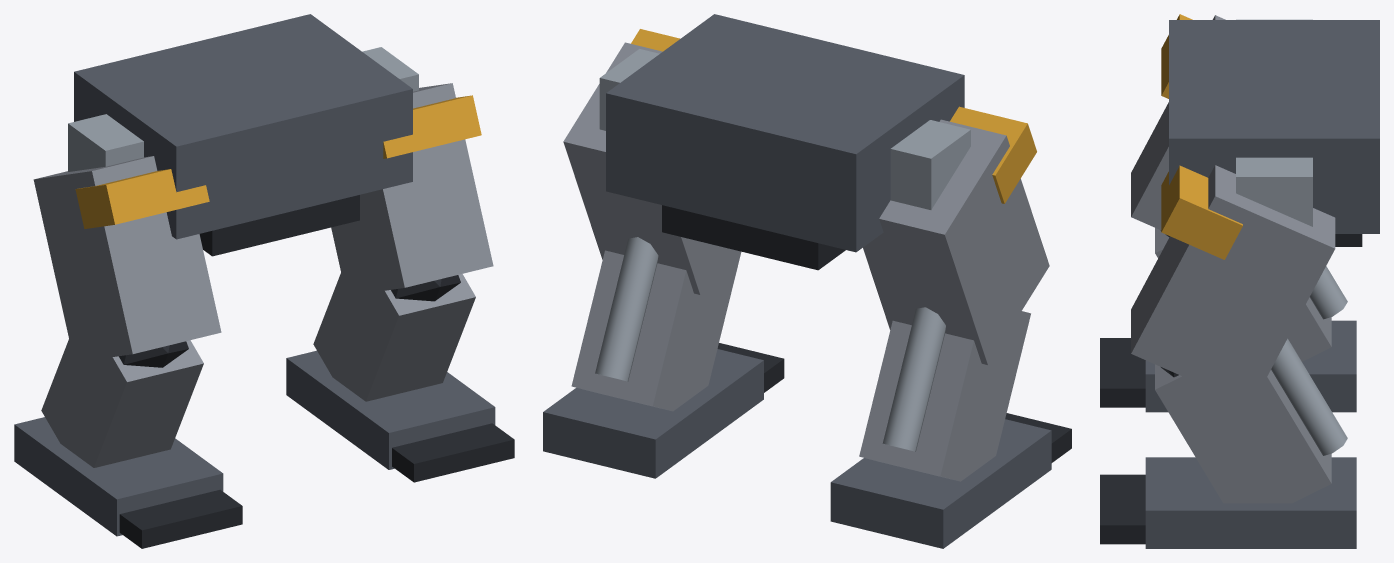
File: legs_biped.glb
3 views of the same model, side by side, from view 1: azimuth 30°, elevation 25°; view 2: azimuth 150°, elevation 25°; view 3: azimuth 270°, elevation 25° (orthographic). The views are drawn at different scales.
Visible parts, largest first — view 1: legs, legR, legL, object 3, object 6, object 4, object 7; view 2: legs, legR, legL, object 3, object 6, object 4, object 7; view 3: legL, legs, object 6, legR, object 3, object 7, object 4.
Part boxes in pixels (bbox=[...]): legs: bbox=[74, 14, 412, 256]; legR: bbox=[33, 114, 221, 467]; legL: bbox=[313, 47, 493, 401]; object 3: bbox=[14, 417, 223, 536]; object 6: bbox=[286, 350, 495, 469]; object 4: bbox=[119, 489, 242, 548]; object 7: bbox=[392, 423, 514, 482]; legs: bbox=[606, 14, 964, 270]; legR: bbox=[859, 106, 1049, 481]; legL: bbox=[563, 29, 741, 411]; object 3: bbox=[830, 419, 1051, 548]; object 6: bbox=[543, 349, 763, 478]; object 4: bbox=[1005, 413, 1071, 462]; object 7: bbox=[717, 343, 784, 392]; legL: bbox=[1131, 157, 1347, 503]; legs: bbox=[1169, 20, 1379, 246]; object 6: bbox=[1145, 457, 1356, 548]; legR: bbox=[1131, 14, 1347, 361]; object 3: bbox=[1145, 320, 1356, 412]; object 7: bbox=[1100, 474, 1145, 544]; object 4: bbox=[1100, 338, 1145, 407].
Size of the model in its own units: 1.28 by 1.18 by 0.7965.
